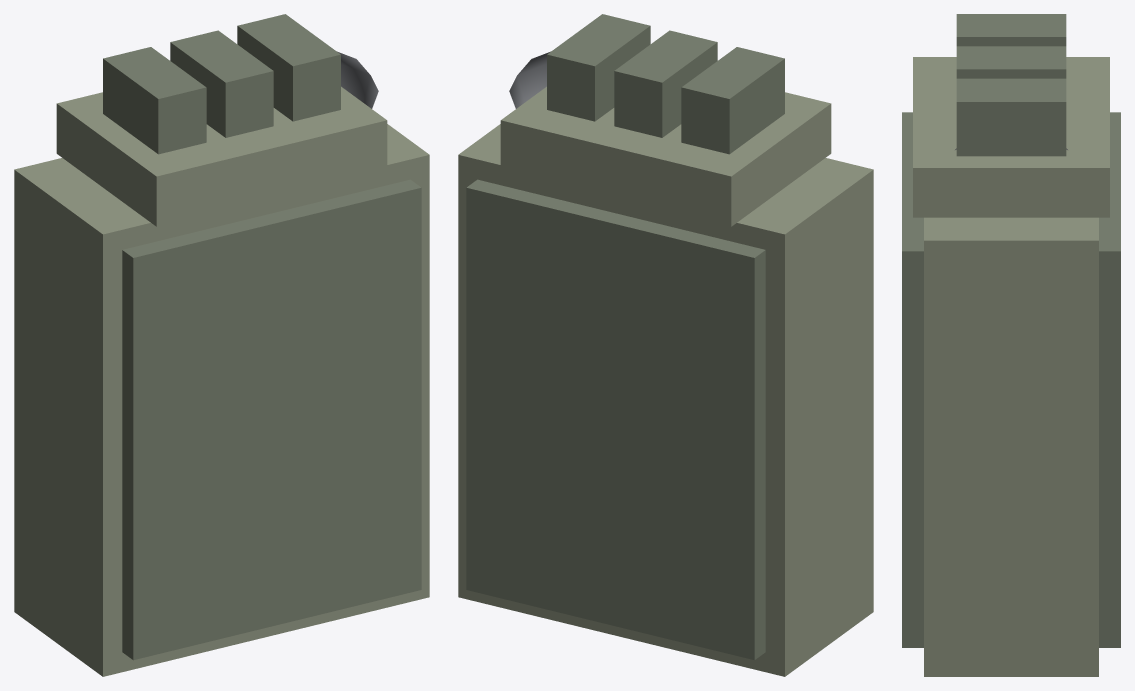
The model's file is armoured-column-and-field-camp-jerry-can-5bdb0bff__23720.glb.
The picture shows the model from 3 angles, left to right: view 1: azimuth 30°, elevation 25°; view 2: azimuth 150°, elevation 25°; view 3: azimuth 270°, elevation 25°; orthographic projection.
Visible parts, largest first — view 1: jerry-can; view 2: jerry-can; view 3: jerry-can.
Part boxes in pixels (x1,y1,x2,y2): jerry-can: [14, 14, 429, 676]; jerry-can: [458, 14, 873, 676]; jerry-can: [902, 14, 1120, 676].
Size of the model in its own units: 0.34 by 0.545 by 0.2.
